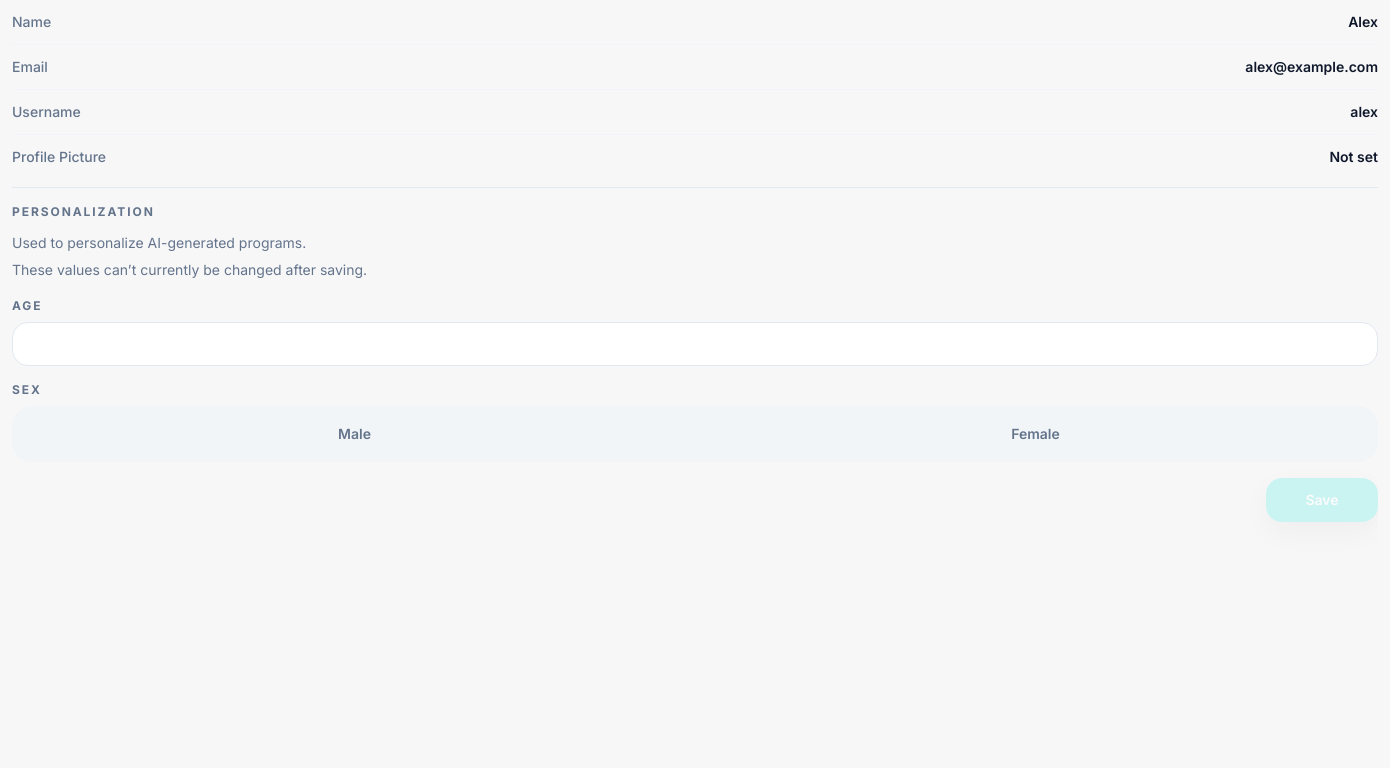
Scenario: keeps backend validation errors visible
Type "29" into the number field labelled "Age" at (695,344), box [12, 322, 1378, 366]
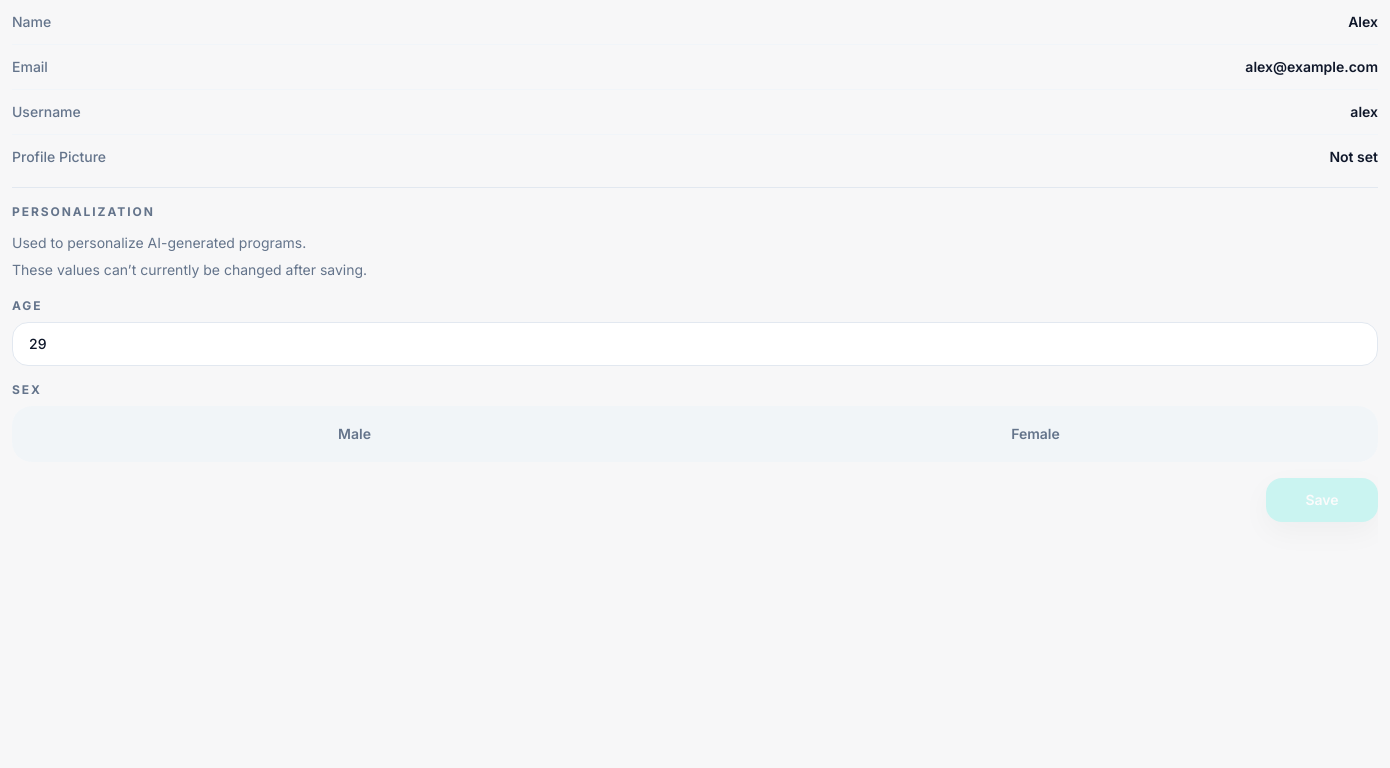
Click the button "Female" at (1036,434), box [699, 412, 1372, 456]
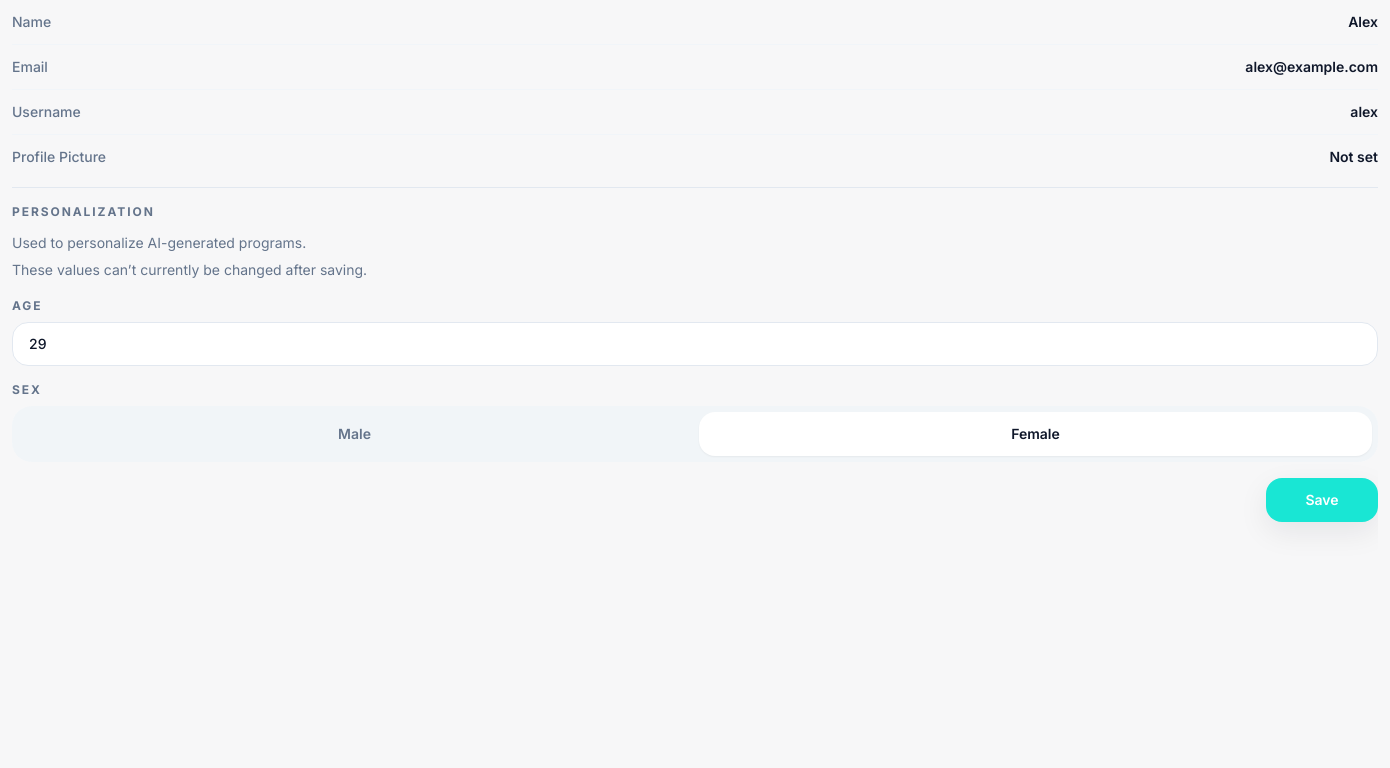
Click the button "Save" at (1322,500), box [1266, 478, 1378, 522]
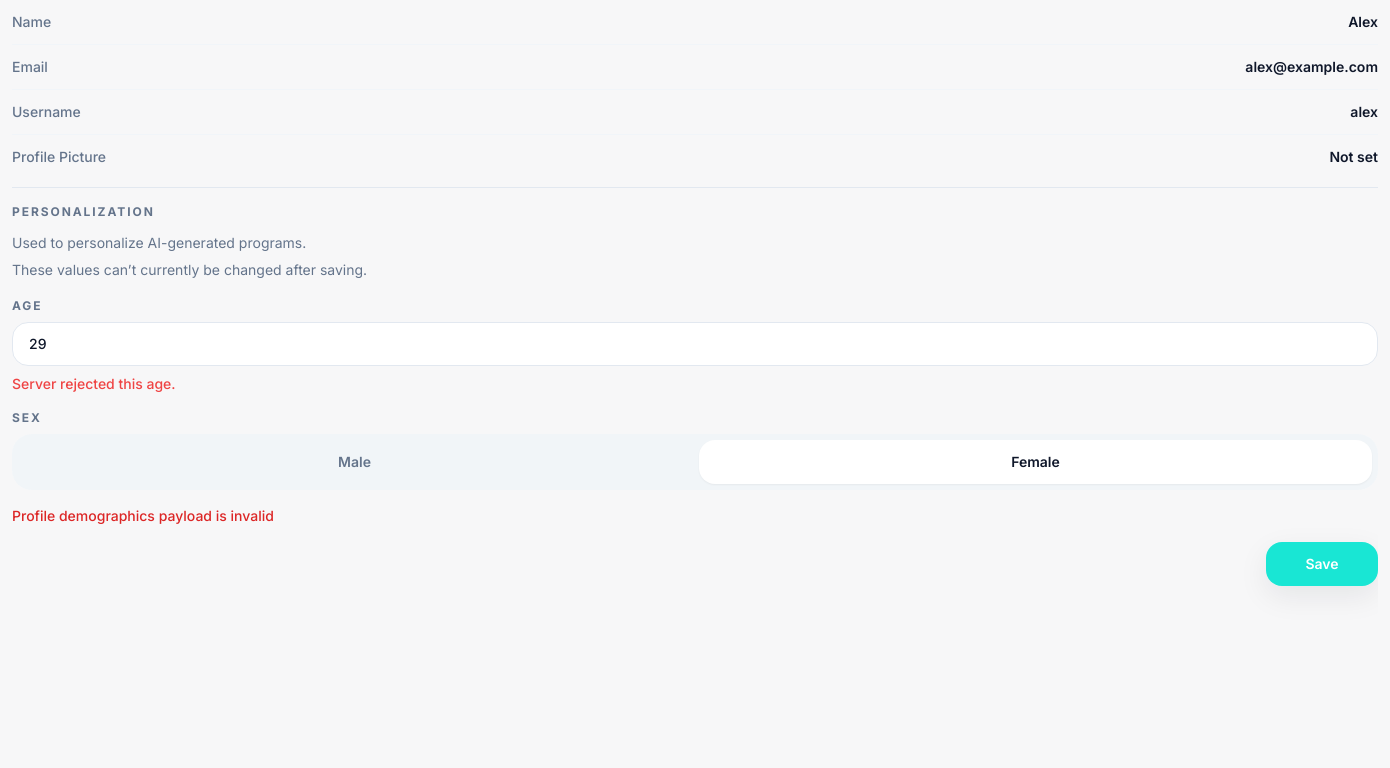
Result: the text "Server rejected this age." is shown at [12, 374, 176, 392]
Result: the text "Profile demographics payload is invalid" is shown at [12, 506, 274, 524]
